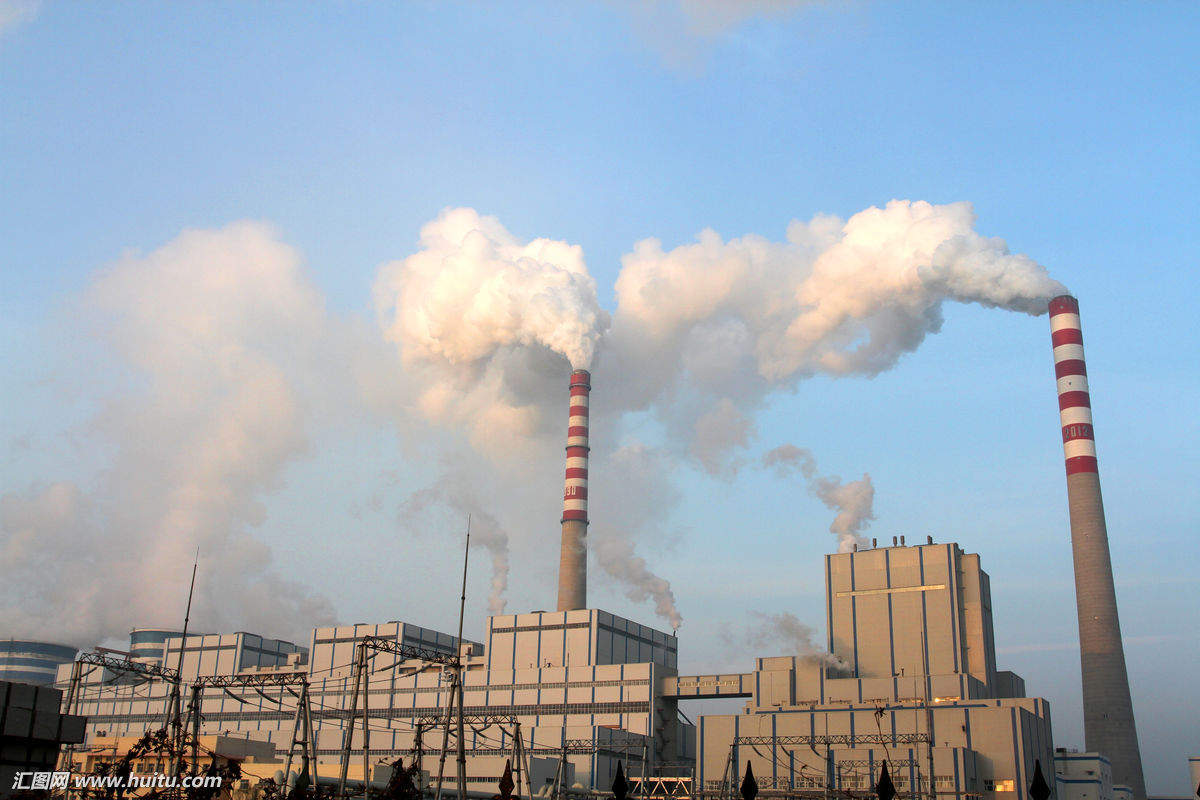dust: (409, 214, 615, 397), (847, 204, 1089, 318), (610, 503, 702, 637)
